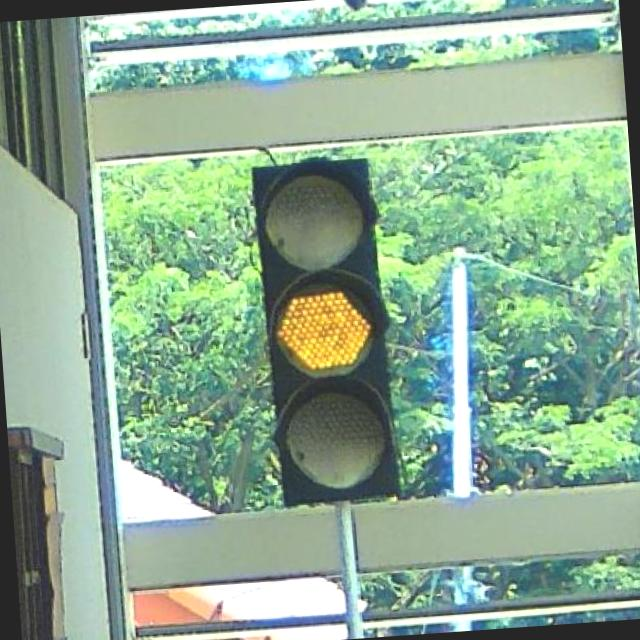yellow_light: (253, 155, 399, 506)
